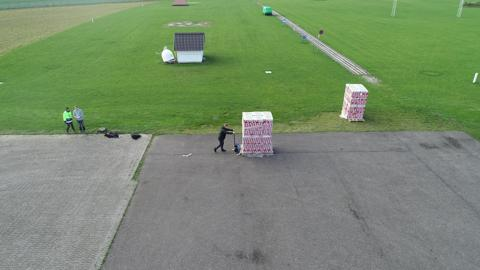RockwoolPallet: (243, 111, 273, 155)
